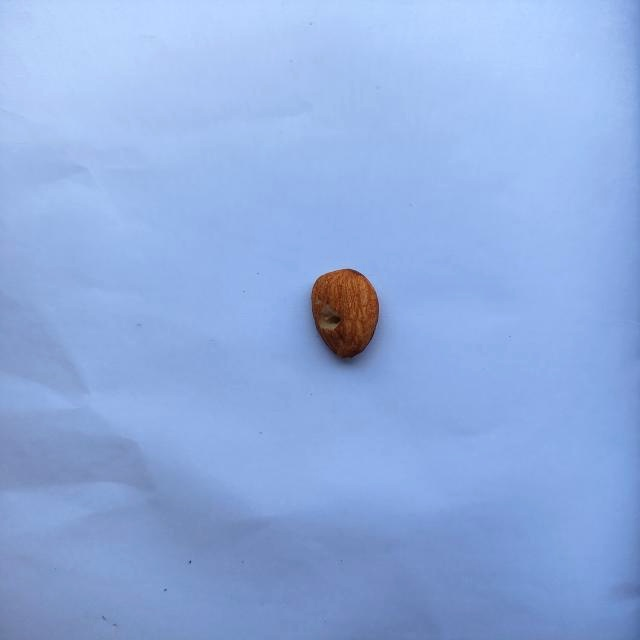grade3: (306, 265, 381, 363)
